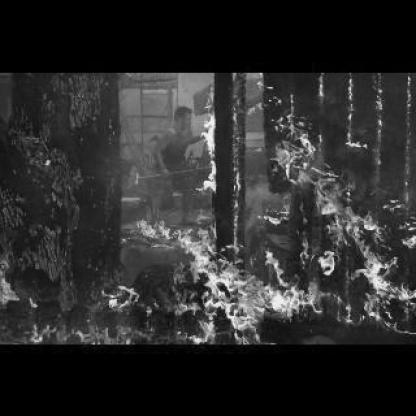fire: (122, 75, 415, 342)
